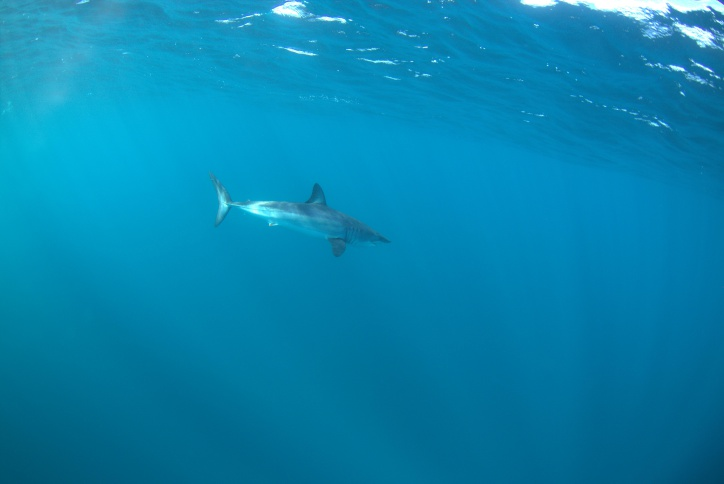Mako: (186, 159, 397, 260)
